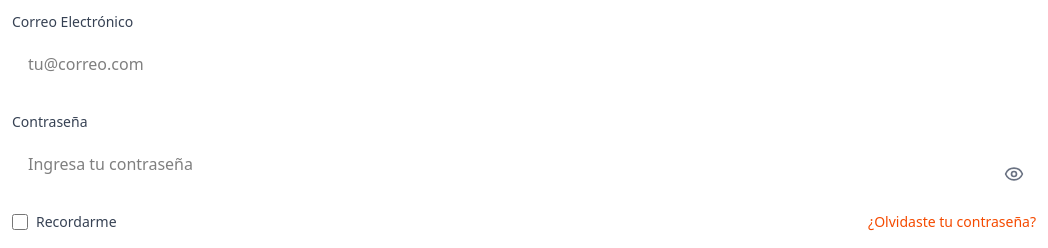
Test: LoginForm › Password Visibility Toggle › should have correct aria-label for toggle button
Click the button named "mostrar contraseña" at {"x": 1014, "y": 174}, box top-left (1004, 164), bottom-right (1024, 184)
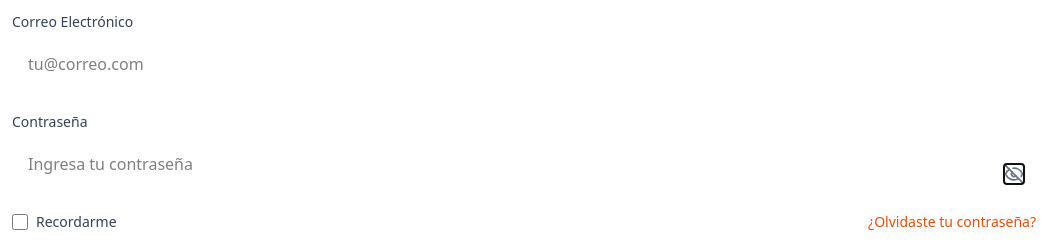
expect the button named "ocultar contraseña" is shown: met, box top-left (1004, 164), bottom-right (1024, 184)
